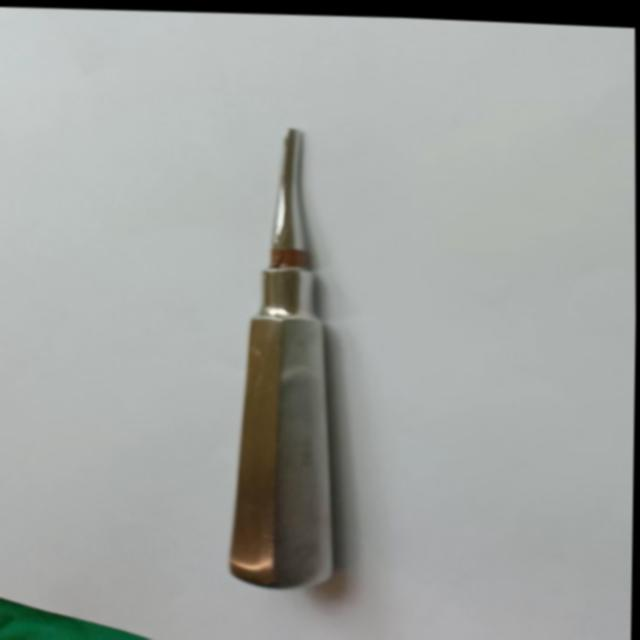Coupland1: (218, 112, 344, 602)
